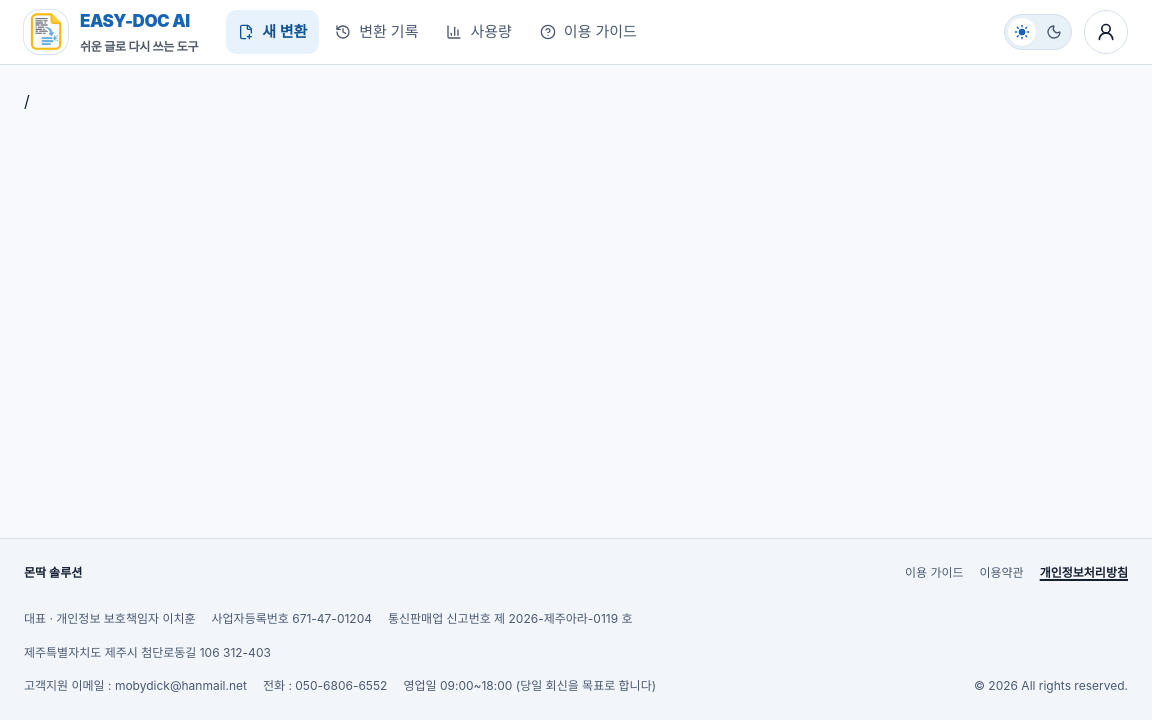
it: 계정 메뉴 › 열면 첫 행동으로 초점이 가고 Esc로 닫으면 트리거로 돌아온다
Click the button named "계정 메뉴". click: [1106, 32]
box: 1084,10 -> 1128,54
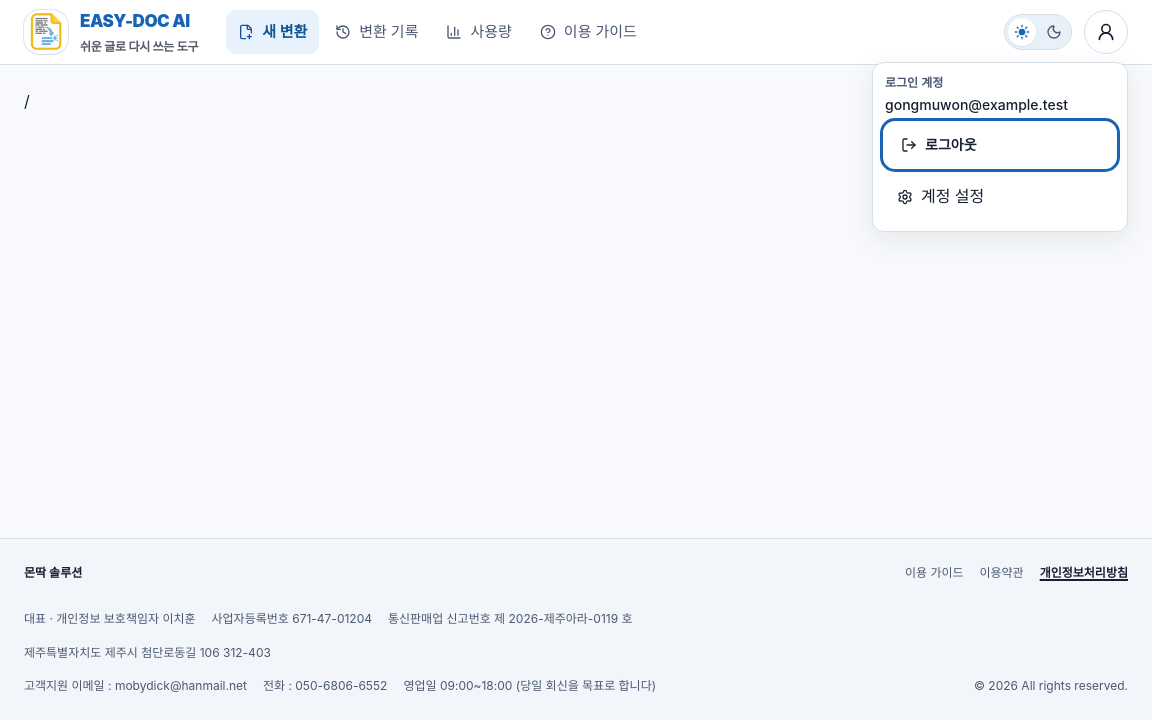
Press Escape
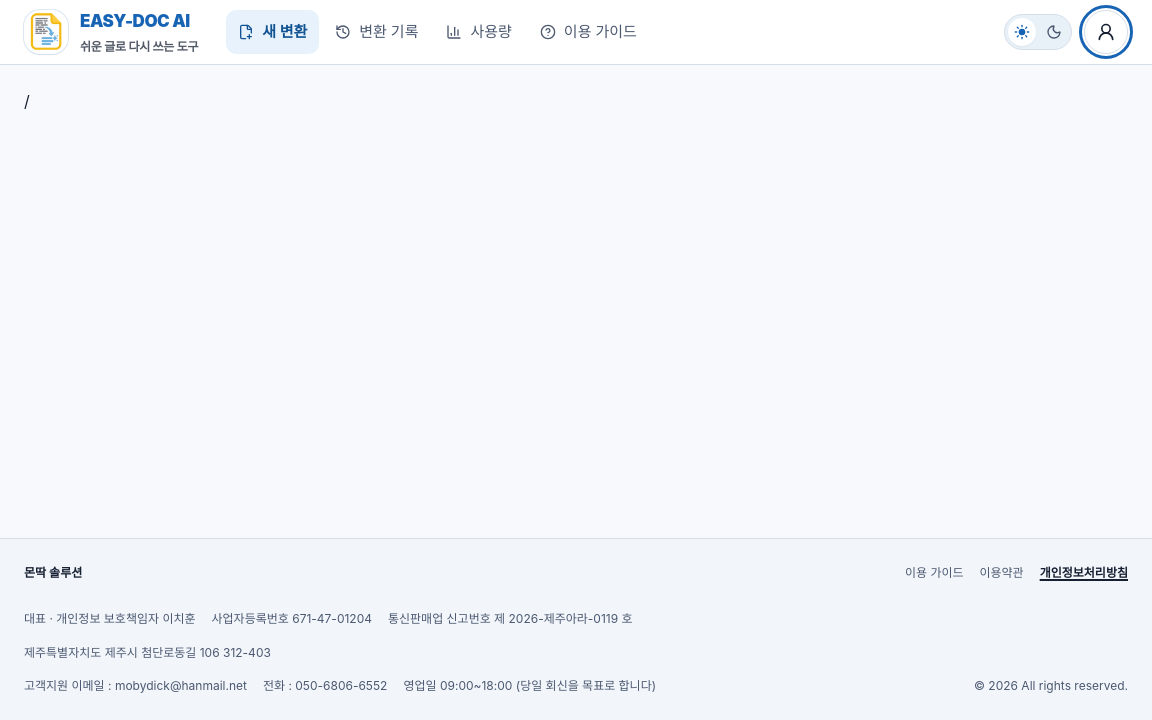
Expected: the button named "계정 메뉴" is collapsed, 1084,10 -> 1128,54
Expected: the text "gongmuwon@example.test" is gone
